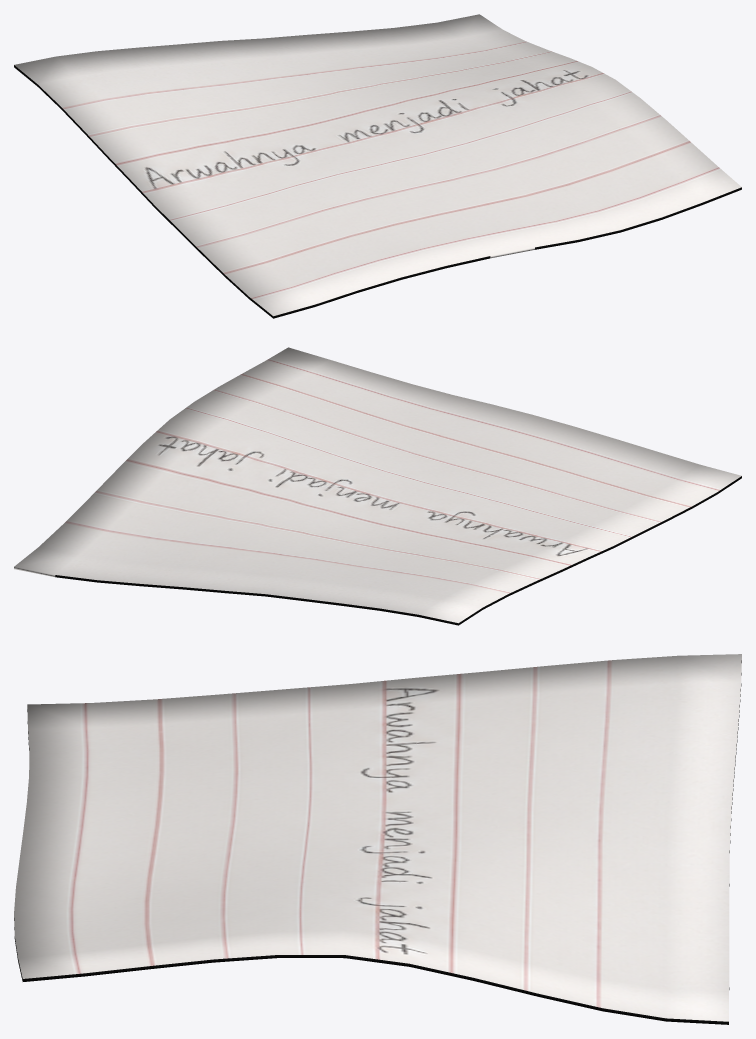
File: Jahat.fbx
3 views of the same model, one above another, from view 1: azimuth 30°, elevation 25°; view 2: azimuth 150°, elevation 25°; view 3: azimuth 270°, elevation 25° (orthographic). The views are drawn at different scales.
Visible parts, largest first — view 1: Jahat; view 2: Jahat; view 3: Jahat.
Part boxes in pixels (x1,y1,x2,y2): Jahat: [14, 14, 741, 318]; Jahat: [14, 347, 741, 625]; Jahat: [14, 654, 741, 1024].
Bounding box in the file's own units: 107 × 13.01 × 109.
1 material, 1 textured.
